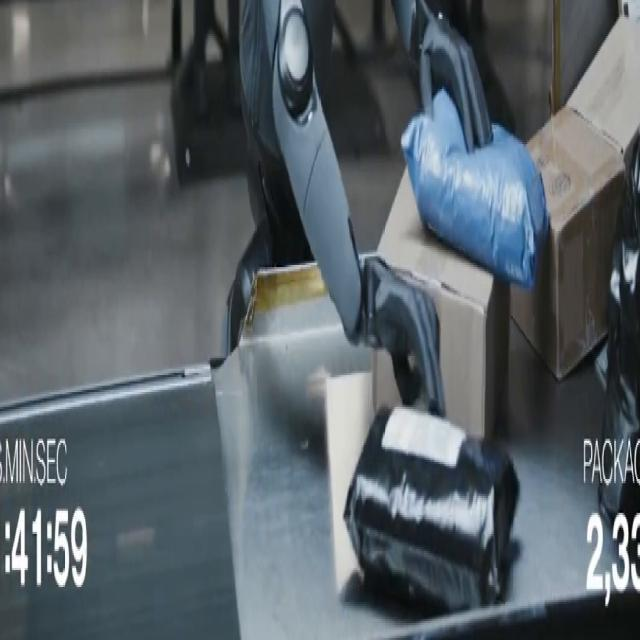package: (511, 20, 639, 379), (344, 407, 518, 610), (378, 172, 510, 436), (402, 92, 547, 288), (238, 263, 371, 425), (599, 142, 639, 523), (550, 0, 618, 114), (595, 344, 608, 389), (619, 0, 639, 21)
